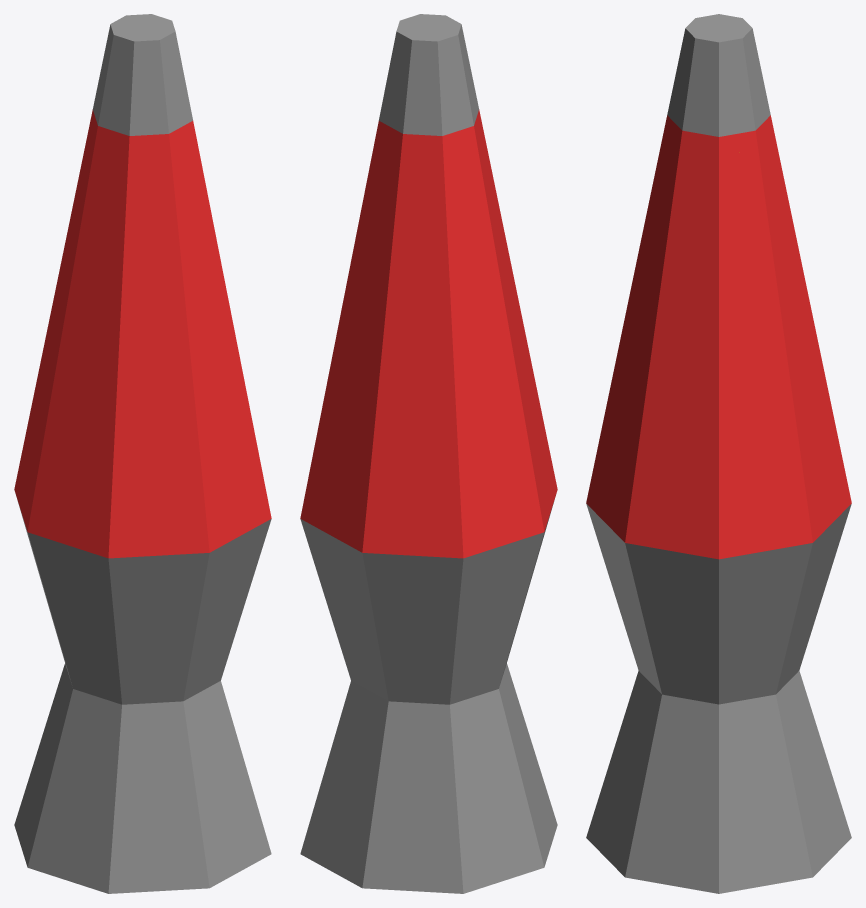
Rendered from 7hgc-RhOFEA.glb.
3 renders of one model, left to right at view 1: azimuth 30°, elevation 25°; view 2: azimuth 150°, elevation 25°; view 3: azimuth 270°, elevation 25°, orthographic.
Visible parts, largest first — view 1: Node; view 2: Node; view 3: Node.
Part boxes in pixels (x1,y1,x2,y2): Node: [14, 14, 271, 893]; Node: [300, 14, 557, 893]; Node: [586, 14, 851, 893].
Bounding box in the file's own units: 0.2975 × 1 × 0.2975.
